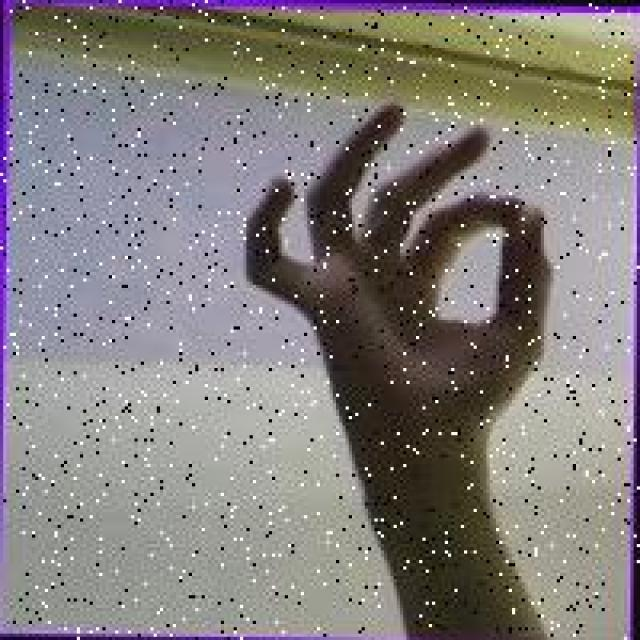F: (232, 88, 562, 498)
